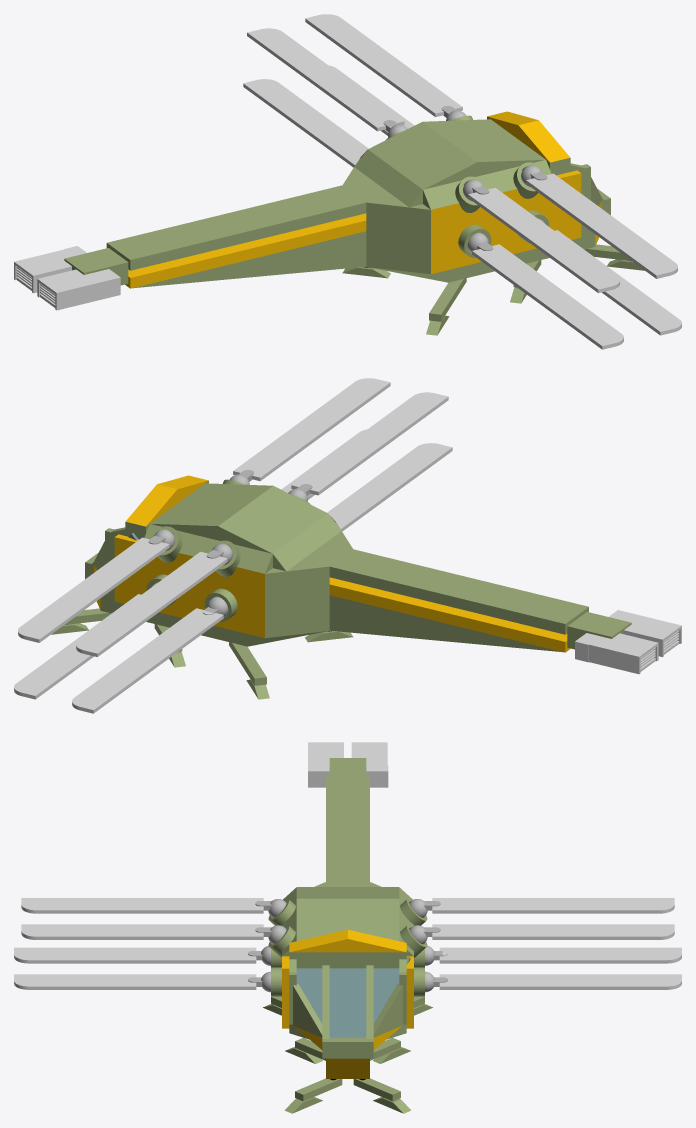
The model's file is 战斗机0.gltf.
3 renders of one model, top to bottom at view 1: azimuth 30°, elevation 25°; view 2: azimuth 150°, elevation 25°; view 3: azimuth 270°, elevation 25°, orthographic. The views are drawn at different scales.
Parts seen in each view (by area): view 1: box (×24), wedge (×8); view 2: box (×24), wedge (×8); view 3: box (×30), wedge (×9).
Boxes of the visible parts, x1,y1,x2,y2 form: box (×24): (14, 15, 679, 349); wedge (×8): (133, 111, 569, 288); box (×24): (16, 379, 681, 713); wedge (×8): (126, 475, 562, 652); box (×30): (14, 742, 681, 1101); wedge (×9): (289, 887, 406, 1078).
Bounding box in the file's own units: 17.27 × 4.08 × 18.2.
